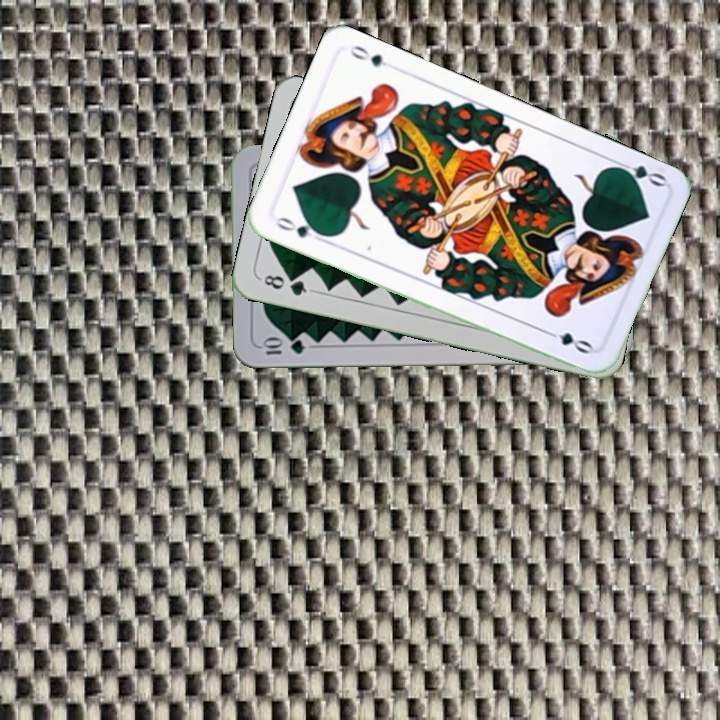G10: (259, 336, 307, 357)
G8: (256, 270, 315, 299)
GO: (609, 156, 668, 190), (270, 213, 328, 241)
